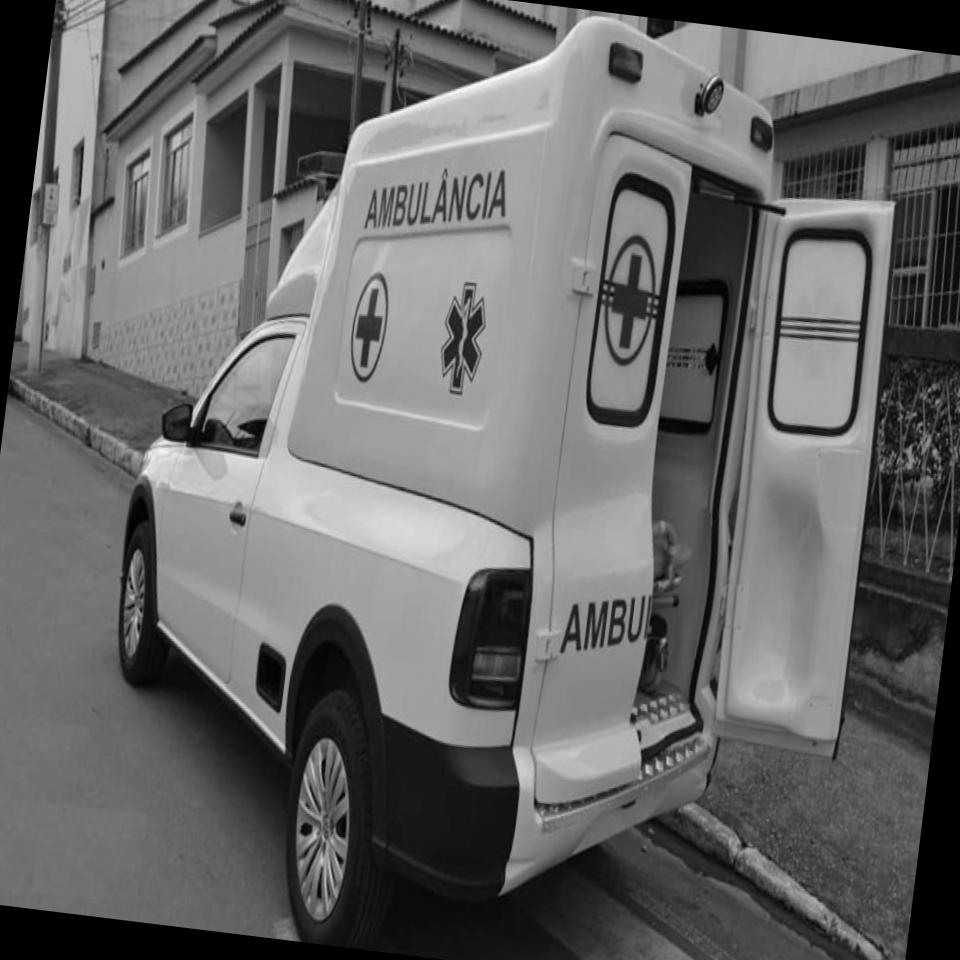bombeiro: (75, 0, 929, 960)
